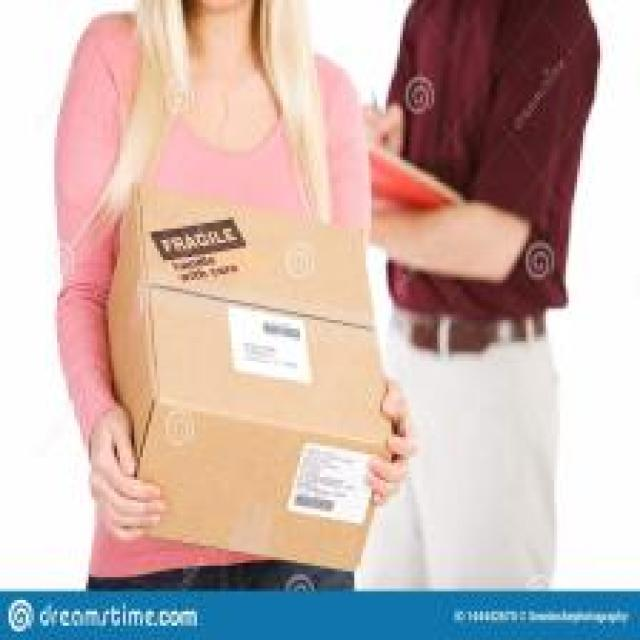box: (97, 177, 398, 574)
